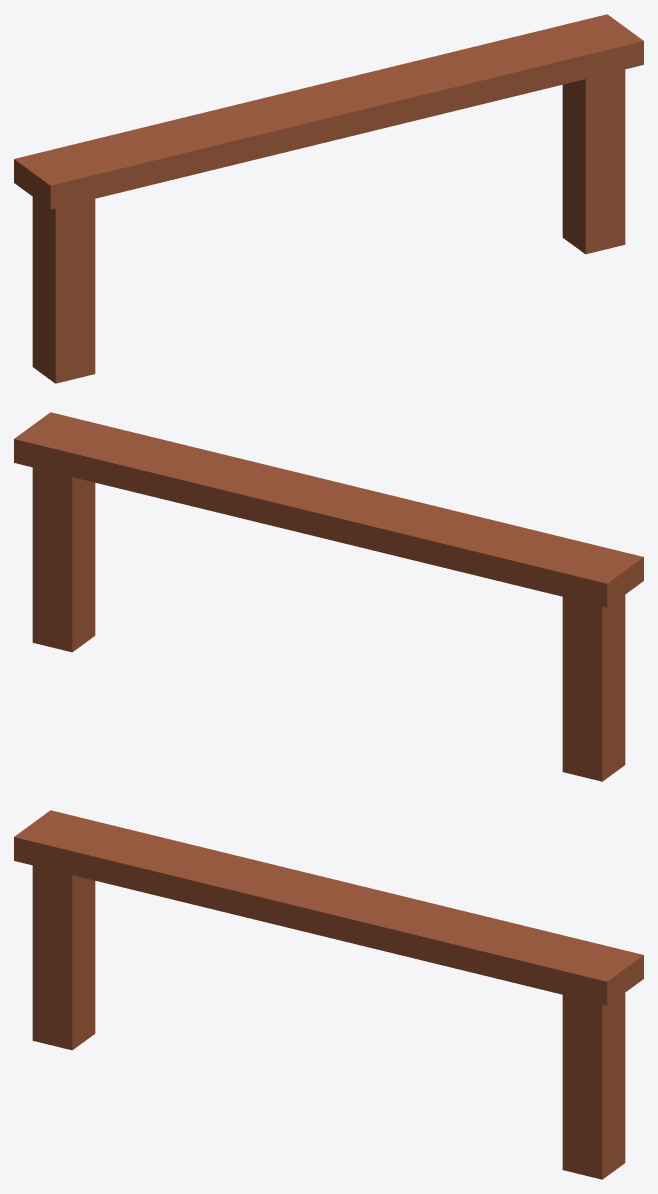
File: fence_simpleHigh.glb
The picture shows the model from 3 angles, top to bottom: view 1: azimuth 30°, elevation 25°; view 2: azimuth 150°, elevation 25°; view 3: azimuth 330°, elevation 25°; orthographic projection.
Visible parts, largest first — view 1: fence_simpleHigh; view 2: fence_simpleHigh; view 3: fence_simpleHigh.
Part boxes in pixels (x1,y1,x2,y2): fence_simpleHigh: (14,14,643,383); fence_simpleHigh: (14,412,643,781); fence_simpleHigh: (14,810,643,1179).
Size of the model in its own units: 1.04 by 0.345 by 0.1112.
